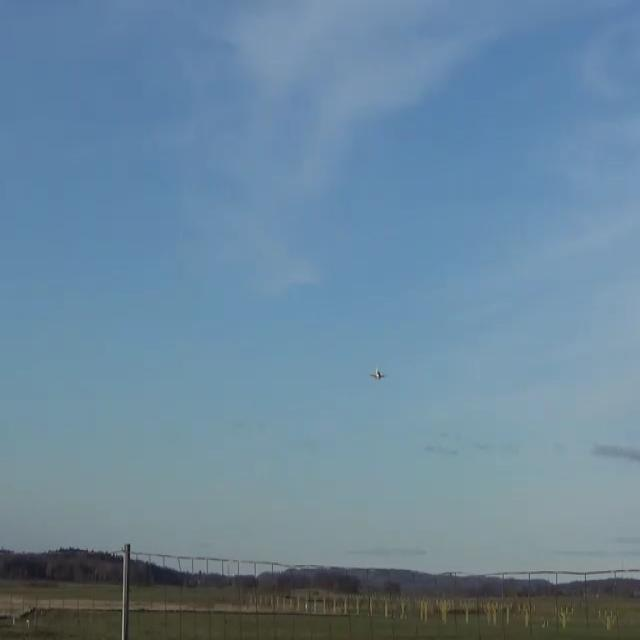AirPlane: (356, 355, 397, 393)
